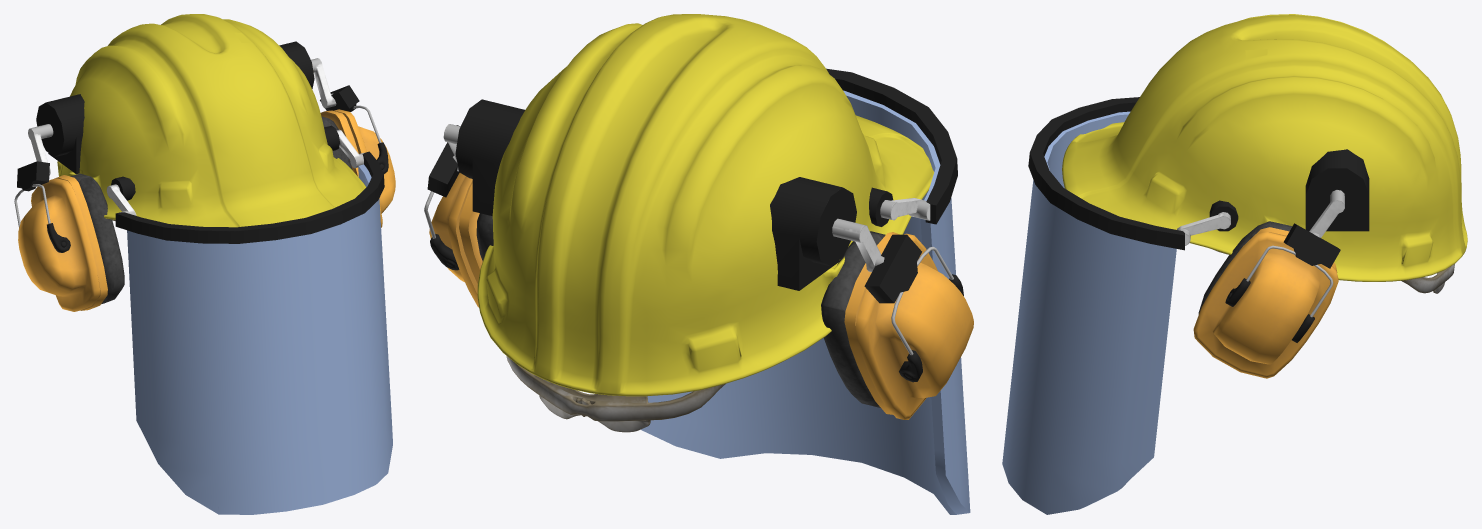
File: pelindung_wajah_2.fbx
3 views of the same model, side by side, from view 1: azimuth 30°, elevation 25°; view 2: azimuth 150°, elevation 25°; view 3: azimuth 270°, elevation 25° (orthographic). The views are drawn at different scales.
Visible parts, largest first — view 1: pelindung_wajah_2, pelindung_wajah_2_transparent; view 2: pelindung_wajah_2, pelindung_wajah_2_transparent; view 3: pelindung_wajah_2, pelindung_wajah_2_transparent.
Boxes of the visible parts, <box> form: pelindung_wajah_2: <box>14,14,395,311</box>; pelindung_wajah_2_transparent: <box>127,164,392,514</box>; pelindung_wajah_2: <box>424,14,973,432</box>; pelindung_wajah_2_transparent: <box>641,90,970,514</box>; pelindung_wajah_2: <box>1028,14,1467,378</box>; pelindung_wajah_2_transparent: <box>1002,111,1176,514</box>.
Bounding box in the file's own units: 34.17 × 36.05 × 34.64.
Materials: 2 (2 with a texture image).
